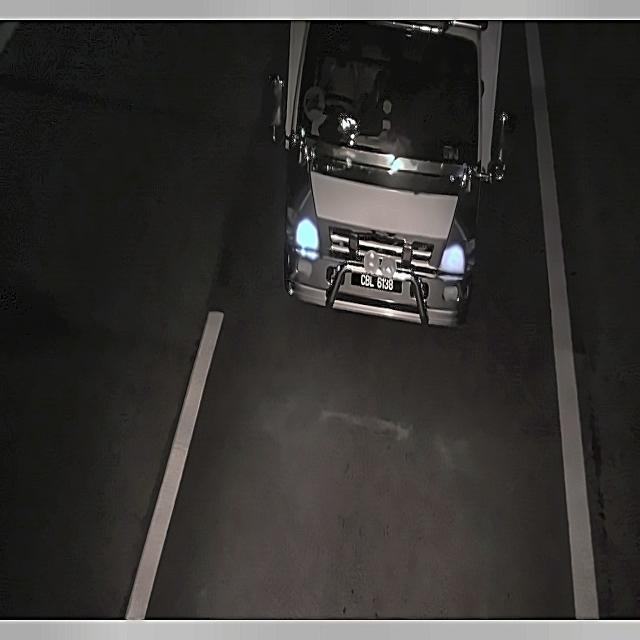car: (353, 270, 398, 296)
